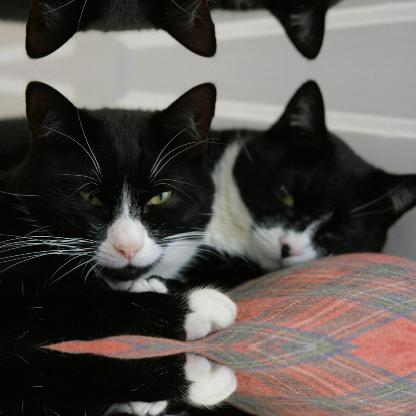Cat: (0, 81, 234, 343), (206, 75, 416, 265), (0, 349, 235, 415), (0, 0, 235, 58), (206, 0, 415, 64)
